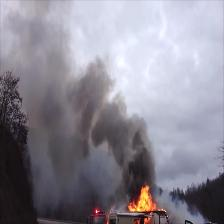fire: (124, 179, 155, 224)
smoke: (67, 82, 123, 139), (20, 4, 62, 71), (123, 137, 154, 178)
